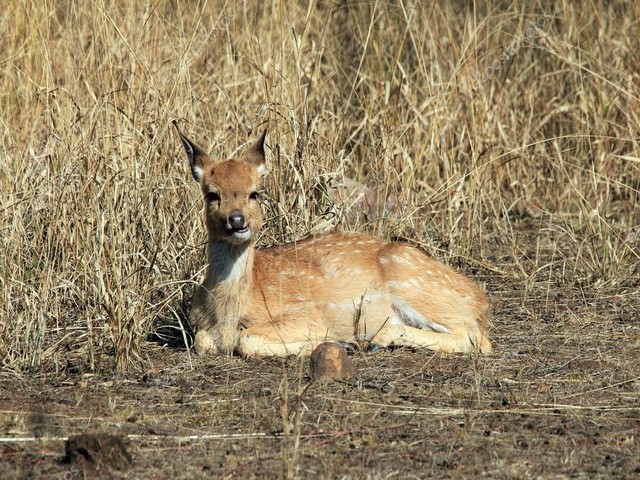deer: (160, 110, 499, 364)
